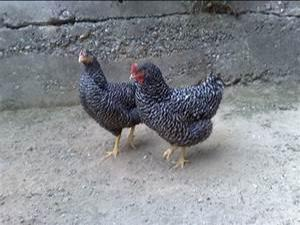hen: (128, 60, 224, 170), (77, 47, 143, 161)
